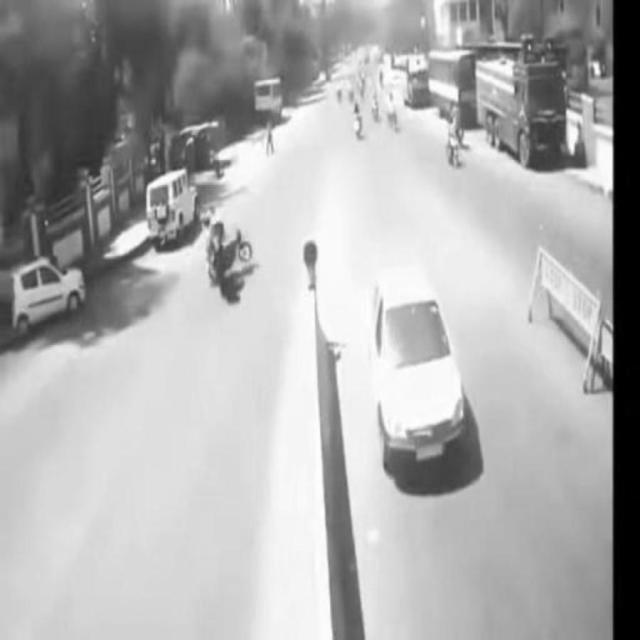accident: (201, 209, 251, 307)
vehicle: (369, 271, 467, 467), (473, 59, 575, 167), (10, 261, 83, 332), (148, 168, 200, 241)
